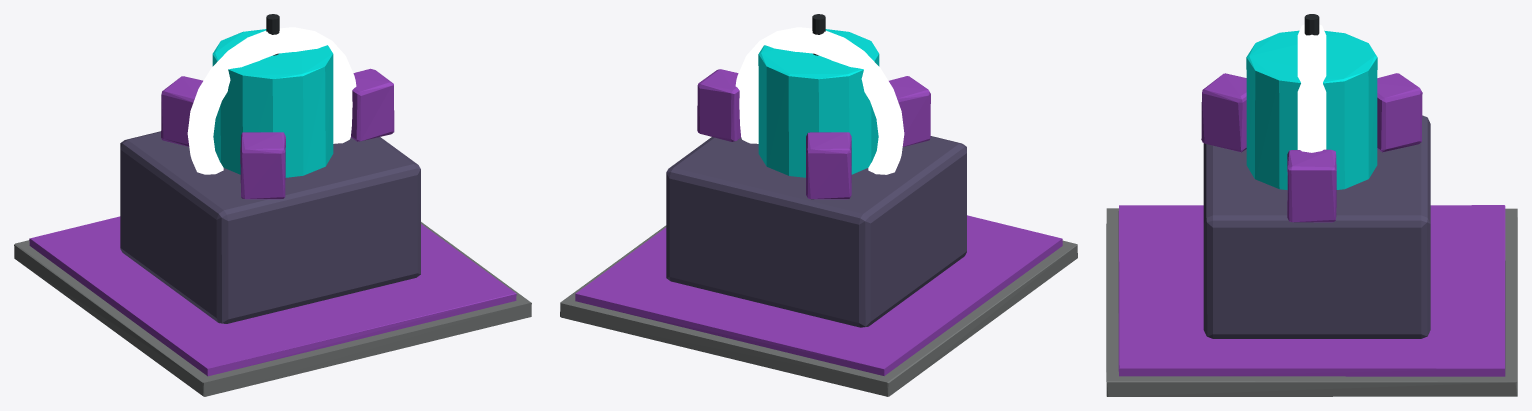
File: SM_Chronolegion_CH_ConYard_LOD1.fbx
The picture shows the model from 3 angles, left to right: view 1: azimuth 30°, elevation 25°; view 2: azimuth 150°, elevation 25°; view 3: azimuth 270°, elevation 25°; orthographic projection. The views are drawn at different scales.
Visible parts, largest first — view 1: LOD01_SM_Chronolegion_CH_ConYard; view 2: LOD01_SM_Chronolegion_CH_ConYard; view 3: LOD01_SM_Chronolegion_CH_ConYard.
Part boxes in pixels (<box>): LOD01_SM_Chronolegion_CH_ConYard: <box>14,14,531,396</box>; LOD01_SM_Chronolegion_CH_ConYard: <box>560,14,1077,396</box>; LOD01_SM_Chronolegion_CH_ConYard: <box>1106,14,1517,396</box>.
Size of the model in its own units: 799 by 798 by 629.
